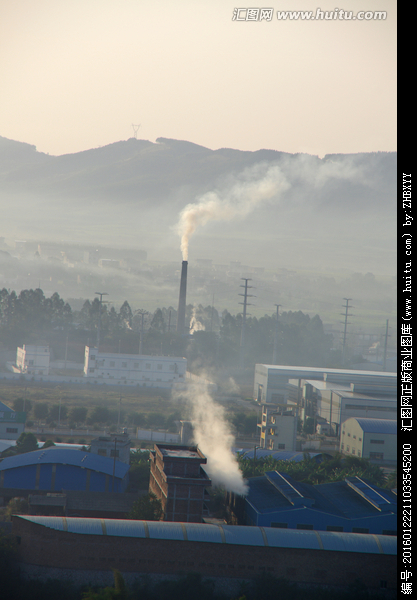dust: (165, 155, 267, 275), (181, 391, 271, 512)
